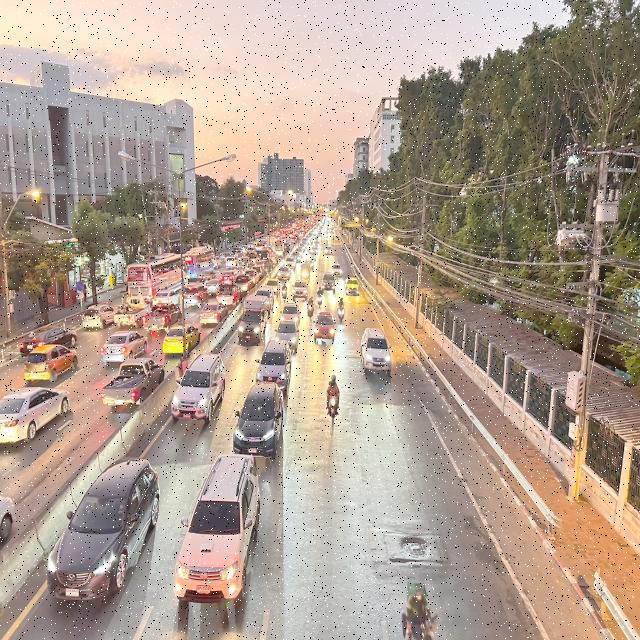bike: (323, 368, 342, 428)
truck: (236, 294, 270, 346)
